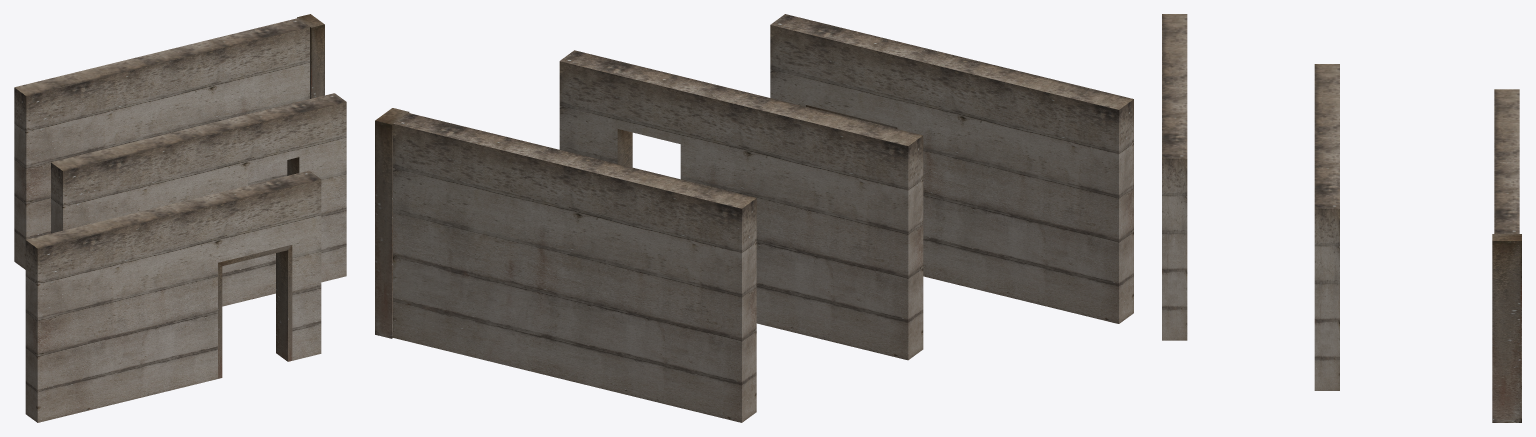
Rendered from wall_concrete.fbx.
3 renders of one model, left to right at view 1: azimuth 30°, elevation 25°; view 2: azimuth 150°, elevation 25°; view 3: azimuth 270°, elevation 25°, orthographic. The views are drawn at different scales.
Parts seen in each view (by area): view 1: Wall_Door_Concrete, Wall_Concrete, Wall_Window_Concrete, Pillar_Concrete; view 2: Wall_Concrete, Wall_Door_Concrete, Wall_Window_Concrete, Pillar_Concrete; view 3: Wall_Door_Concrete, Wall_Window_Concrete, Pillar_Concrete, Wall_Concrete.
Boxes of the visible parts, x1=… form: Wall_Door_Concrete: x1=25, y1=170, x2=321, y2=422; Wall_Concrete: x1=14, y1=18, x2=309, y2=269; Wall_Window_Concrete: x1=51, y1=93, x2=346, y2=306; Pillar_Concrete: x1=297, y1=14, x2=324, y2=98; Wall_Concrete: x1=393, y1=113, x2=756, y2=422; Wall_Door_Concrete: x1=770, y1=14, x2=1133, y2=323; Wall_Window_Concrete: x1=559, y1=50, x2=923, y2=360; Pillar_Concrete: x1=375, y1=108, x2=409, y2=338; Wall_Door_Concrete: x1=1162, y1=14, x2=1187, y2=340; Wall_Window_Concrete: x1=1314, y1=64, x2=1339, y2=390; Pillar_Concrete: x1=1492, y1=234, x2=1521, y2=422; Wall_Concrete: x1=1494, y1=89, x2=1519, y2=233.
Size of the model in its own units: 4.06 by 1.52 by 2.72.
